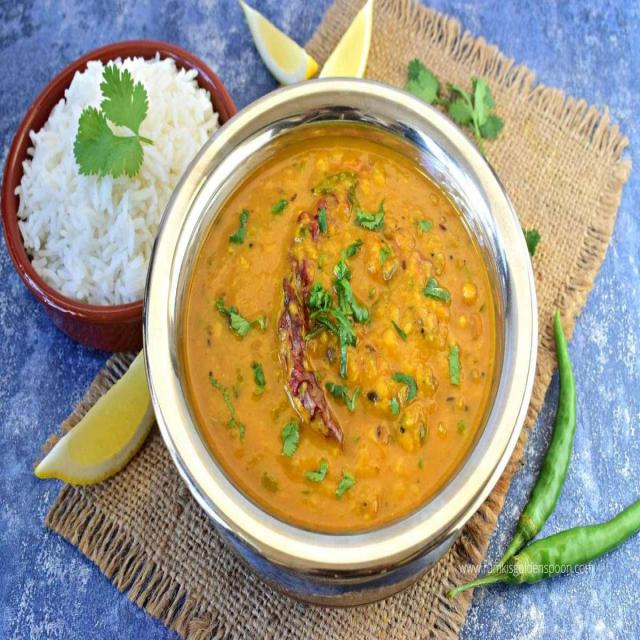dal: (183, 140, 503, 535)
rice: (17, 53, 224, 305)
